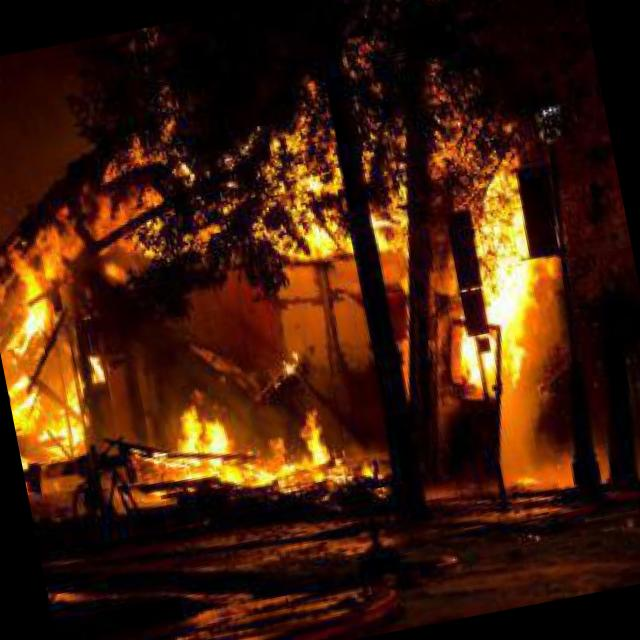fire: (426, 197, 572, 396), (4, 361, 102, 484), (0, 229, 79, 363), (246, 399, 346, 502), (140, 393, 240, 492)
smoke: (490, 381, 578, 493)
